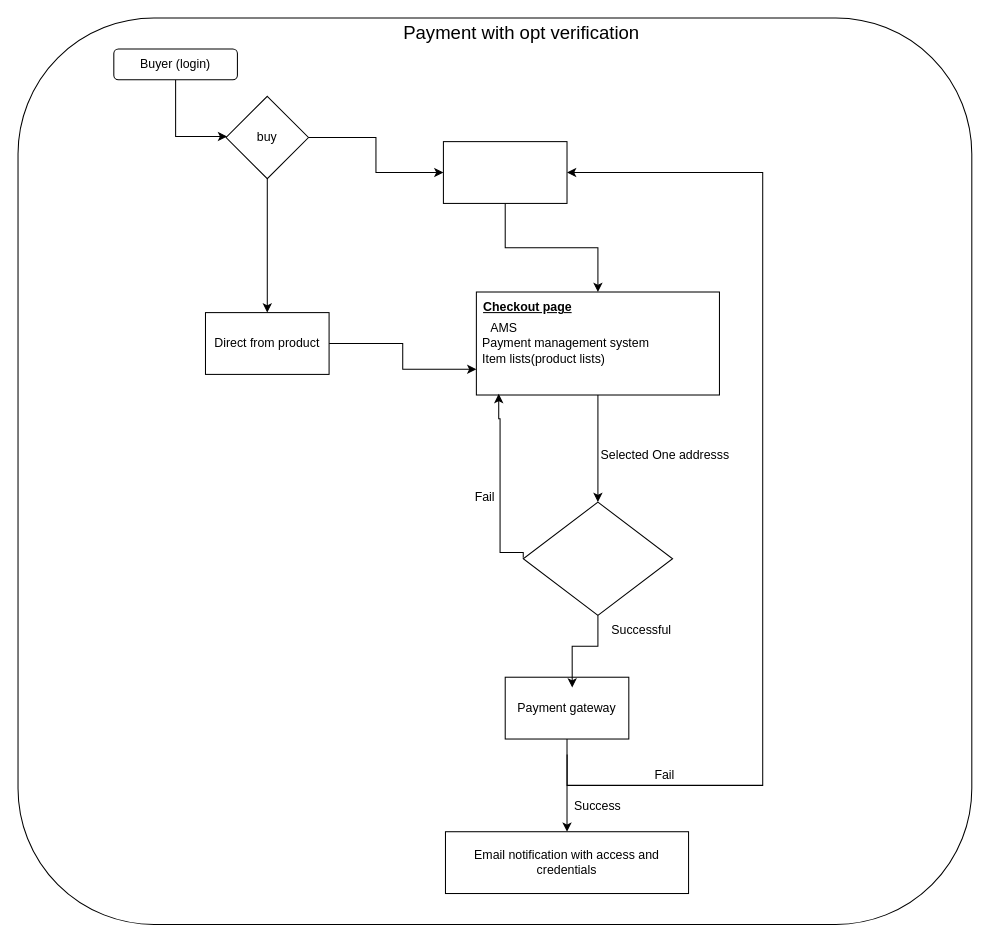
Image size: 990x942. Some labels were removed from this diagram. The shapes that lost their labels are listed below. From the top down, each one's centre as x and y in pixels, then its label:
At point 504,172: "Cart".
At point 597,558: "Verify email/mobile otp".
